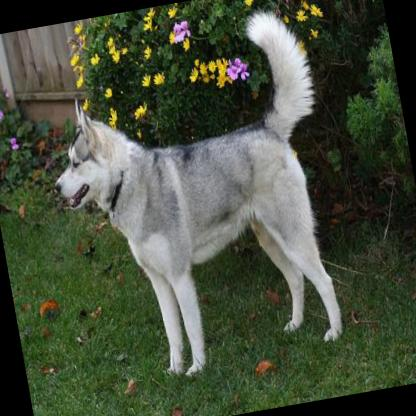Eskimo_dog: (30, 2, 358, 392)
